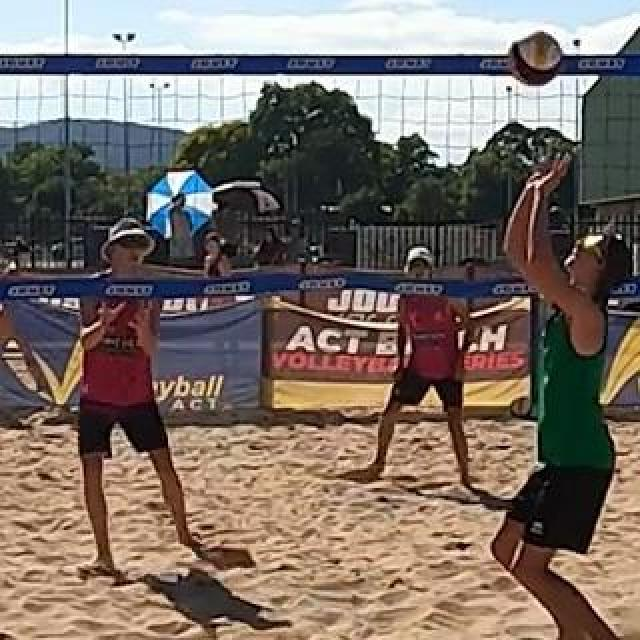volleyball: (511, 33, 563, 85), (508, 394, 532, 420)
